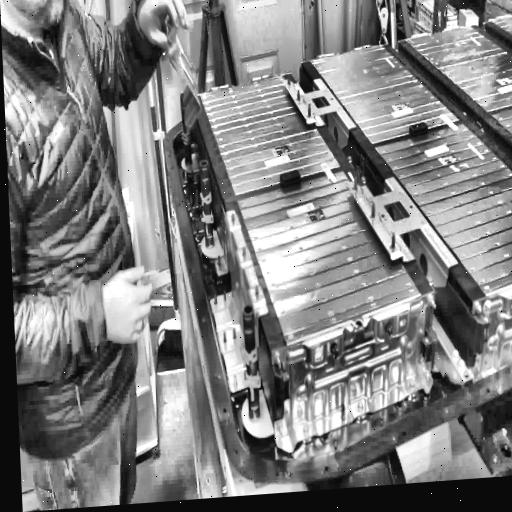battery_module: (237, 171, 420, 347), (375, 123, 512, 297), (199, 74, 339, 194), (310, 44, 458, 144), (408, 25, 512, 113)
